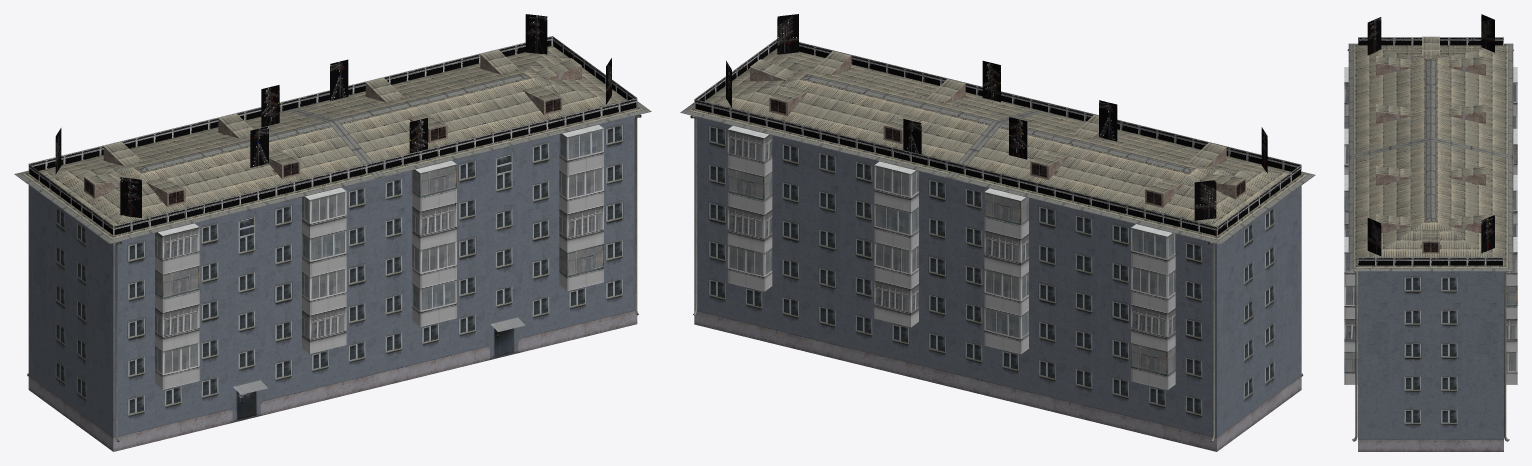
File: rus_build_5et_03e.fbx
3 views of the same model, side by side, from view 1: azimuth 30°, elevation 25°; view 2: azimuth 150°, elevation 25°; view 3: azimuth 270°, elevation 25° (orthographic). The views are drawn at different scales.
Visible parts, largest first — view 1: Regroup13, rus_build_dec_01; view 2: Regroup13, rus_build_dec_01; view 3: Regroup13, rus_build_dec_01.
Boxes of the visible parts, x1,y1,x2,y2 form: Regroup13: [14, 45, 651, 451]; rus_build_dec_01: [28, 14, 637, 235]; Regroup13: [680, 48, 1315, 451]; rus_build_dec_01: [694, 14, 1301, 235]; Regroup13: [1344, 36, 1517, 451]; rus_build_dec_01: [1358, 14, 1503, 265].
Size of the model in its own units: 4130 by 1925 by 1330.
